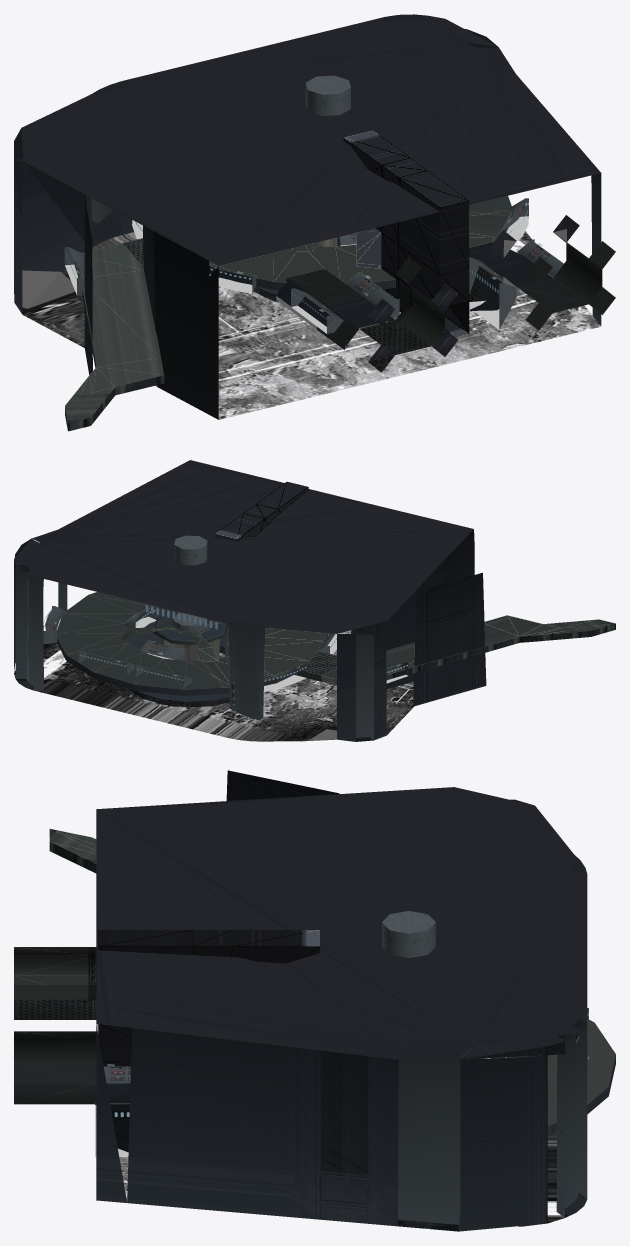
The model's file is sub_room2.gltf.
3 renders of one model, top to bottom at view 1: azimuth 30°, elevation 25°; view 2: azimuth 150°, elevation 25°; view 3: azimuth 270°, elevation 25°, orthographic. The views are drawn at different scales.
Parts seen in each view (by area): view 1: tridngons_1, polymsh_detached42, polymsh, wall22_inverted_outside_entry, polymsh_detached3, cylinder3.001, hall2, polymsh_detached49, cylinder2, cube106, polymsh_detached52, cube105 (+6 smaller); view 2: tridngons_1, cylinder3.001, polymsh_detached52, polymsh, polymsh_detached42, exit_wall_outside_inverted_polys, cylinder1, wall22_inverted_outside_entry, cylinder5.001, cylinder2, cube109, cube44 (+3 smaller); view 3: tridngons_1, polymsh_detached3, polymsh_detached42, hall2, cylinder3.001, cylinder2, polymsh_detached52, polymsh.
Part boxes in pixels (box(x1,y1,x2,y2)): tridngons_1: box(14, 14, 601, 419); polymsh_detached42: box(343, 130, 469, 337); polymsh: box(65, 238, 164, 431); wall22_inverted_outside_entry: box(153, 231, 218, 419); polymsh_detached3: box(469, 215, 615, 330); cylinder3.001: box(209, 196, 511, 301); hall2: box(360, 275, 458, 372); polymsh_detached49: box(276, 269, 394, 349); cylinder2: box(305, 75, 350, 115); cube106: box(469, 257, 516, 329); polymsh_detached52: box(84, 196, 92, 374); cube105: box(346, 271, 399, 317); tridngons_1: box(14, 460, 474, 741); cylinder3.001: box(57, 592, 325, 707); polymsh_detached52: box(413, 572, 486, 706); polymsh: box(297, 615, 615, 685); polymsh_detached42: box(215, 481, 308, 541); exit_wall_outside_inverted_polys: box(354, 560, 445, 689); cylinder1: box(120, 611, 224, 661); wall22_inverted_outside_entry: box(445, 530, 473, 582); cylinder5.001: box(153, 611, 228, 644); cylinder2: box(174, 535, 207, 565); cube109: box(140, 639, 186, 660); cube44: box(43, 606, 66, 644); tridngons_1: box(96, 787, 587, 1231); polymsh_detached3: box(14, 1031, 130, 1152); polymsh_detached42: box(98, 930, 319, 1066); hall2: box(14, 947, 96, 1019); cylinder3.001: box(466, 1019, 615, 1135); cylinder2: box(382, 911, 435, 958); polymsh_detached52: box(226, 770, 339, 800); polymsh: box(49, 829, 96, 873).
Size of the model in its own units: 76.73 by 22.17 by 57.1.
35 materials, 32 textured.
